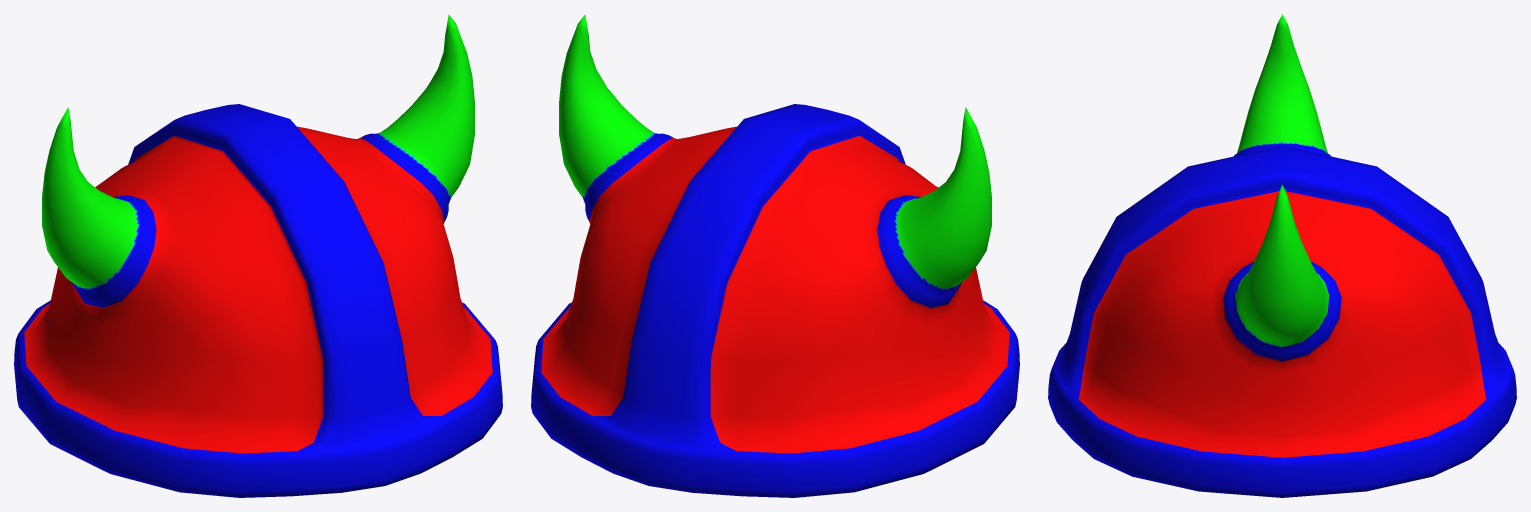
File: Viking.fbx
The picture shows the model from 3 angles, left to right: view 1: azimuth 30°, elevation 25°; view 2: azimuth 150°, elevation 25°; view 3: azimuth 270°, elevation 25°; orthographic projection. The views are drawn at different scales.
Parts seen in each view (by area): view 1: Viking; view 2: Viking; view 3: Viking.
Part boxes in pixels (bbox=[...]): Viking: bbox=[14, 14, 502, 497]; Viking: bbox=[531, 14, 1019, 497]; Viking: bbox=[1048, 14, 1516, 497].
Size of the model in its own units: 38.66 by 29.1 by 40.12.
